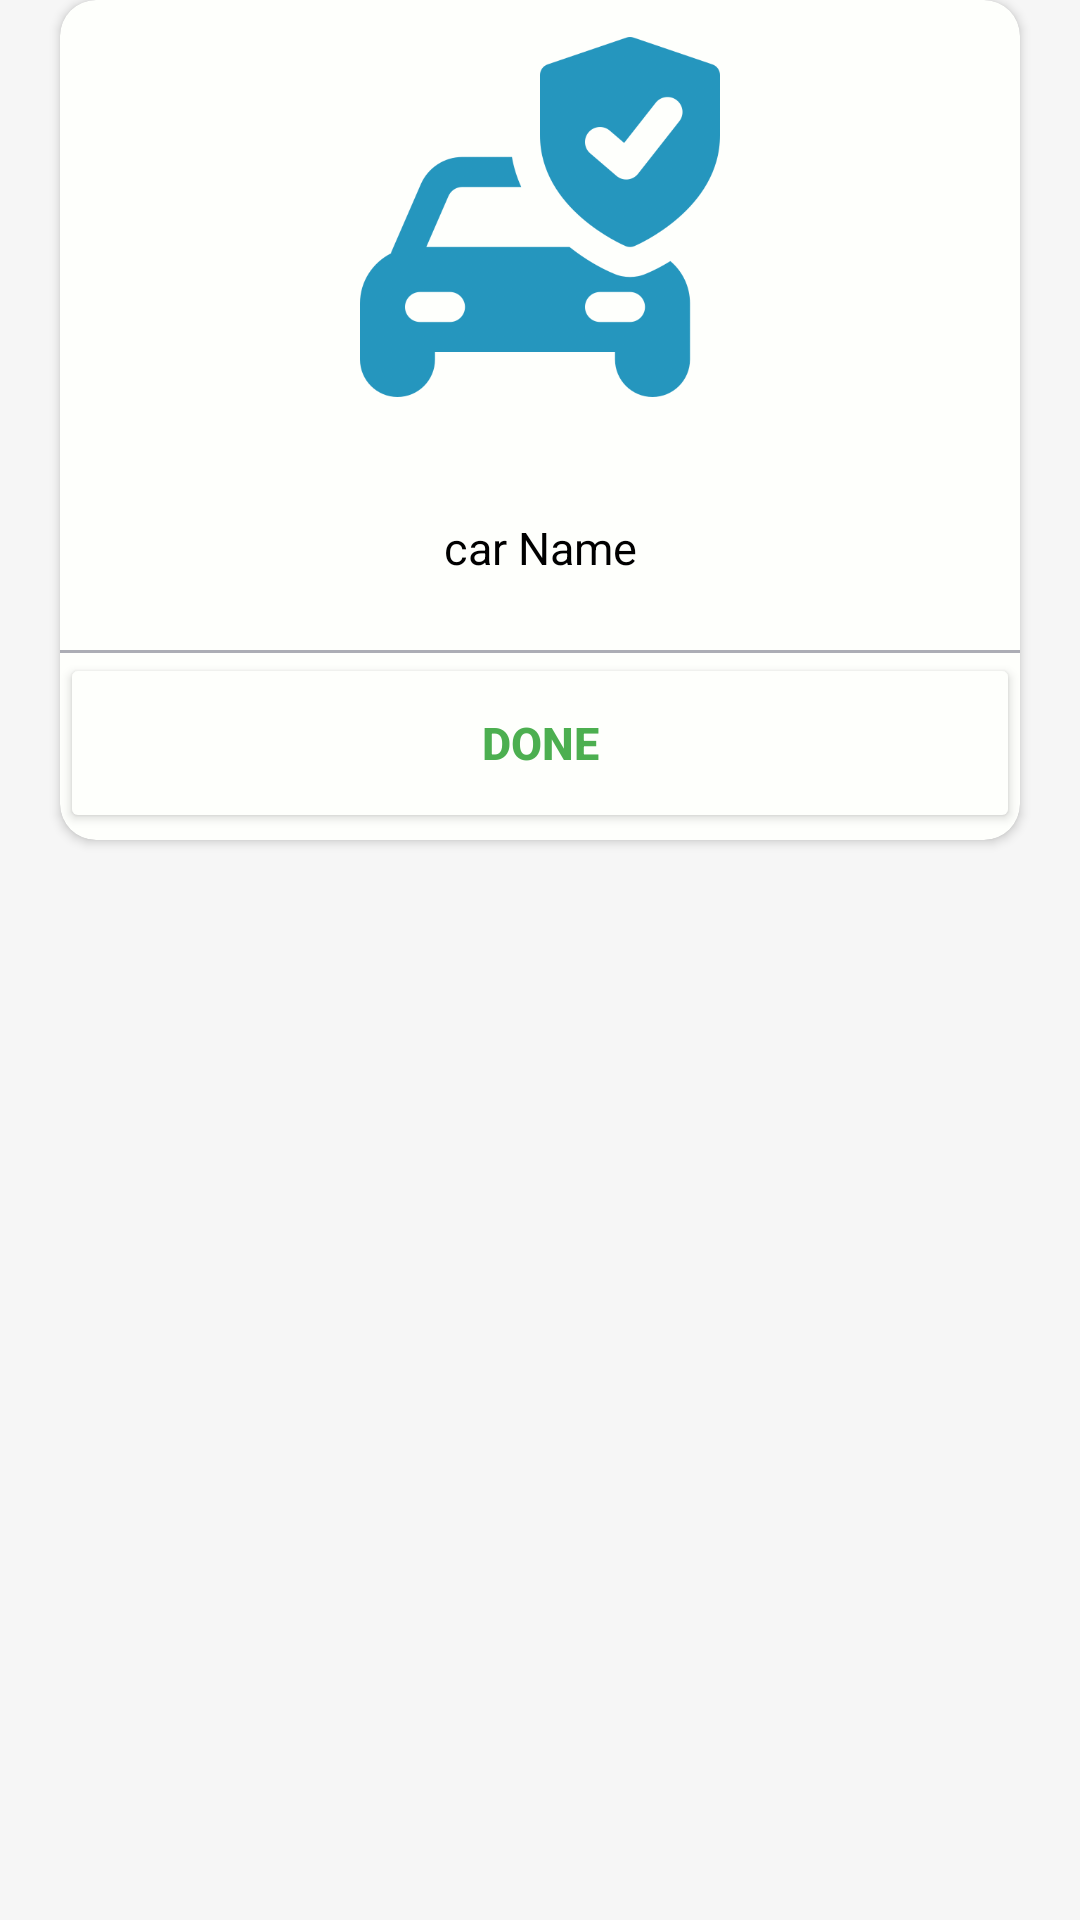

Icon click points for this 1080w x 1920h phone screenshot, format (x,y):
pprotection: (540,217)
